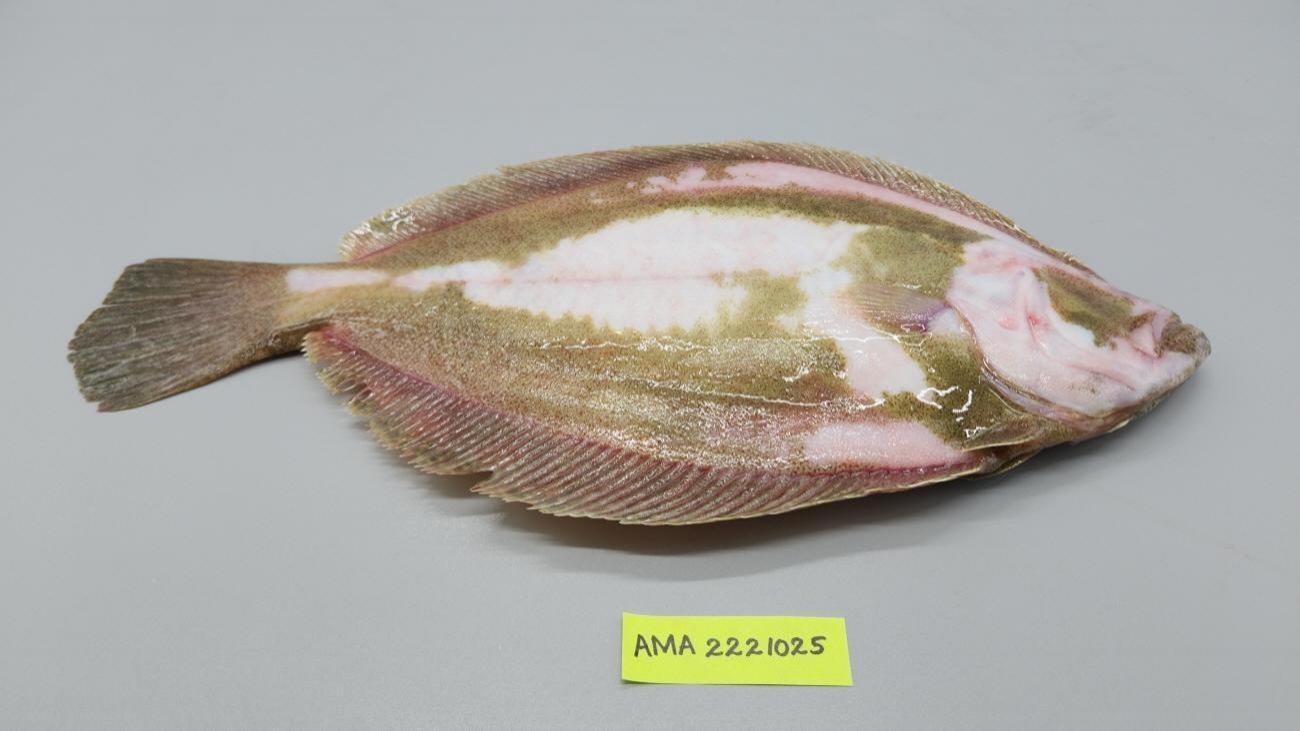MAFCH: (86, 260, 278, 410)
MAOUY: (65, 142, 1209, 527)
